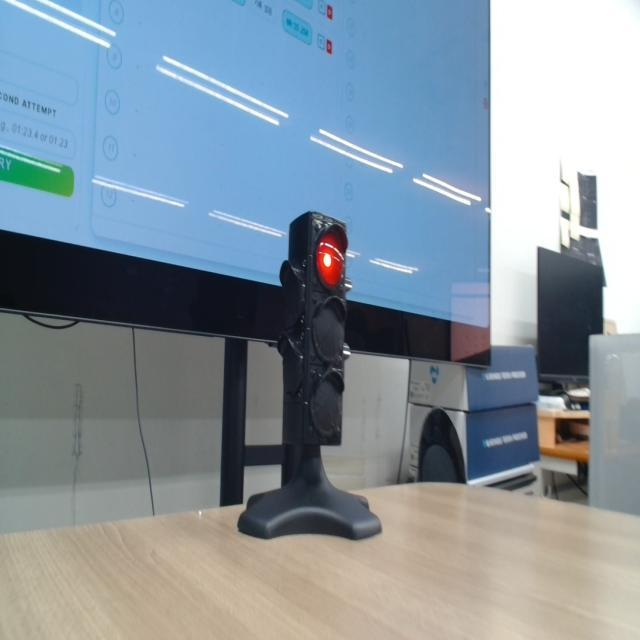red_light: (316, 231, 345, 288)
